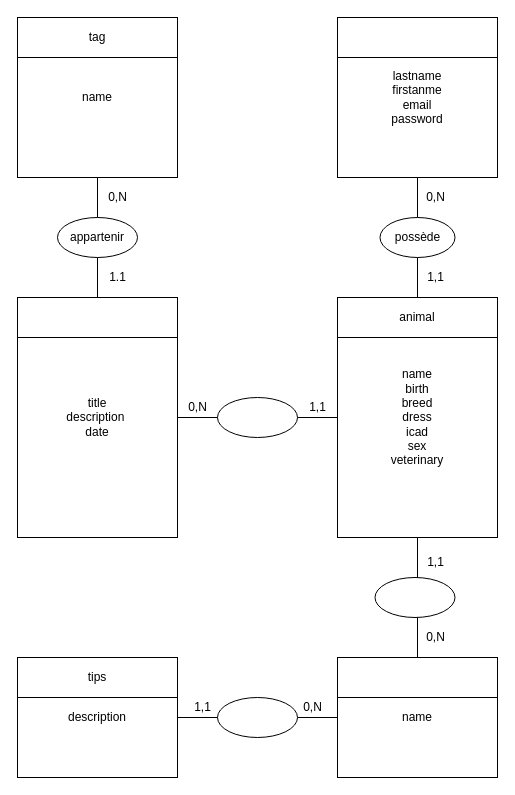
Some shapes in this 515 by 795 pixel diagram are drawn without their labels. Here are the shapes that lost their labels. From the top down, the centre of each, then its label:
At point 417,37: "USER".
At point 97,317: "event".
At point 257,417: "participe".
At point 414,597: "avoir".
At point 417,677: "species".
At point 257,717: "correspond".
